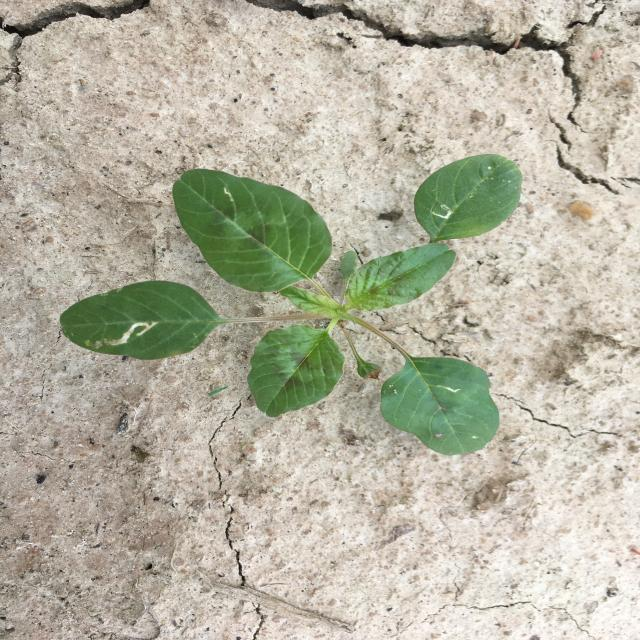PalmerAmaranth: (60, 154, 522, 456)
